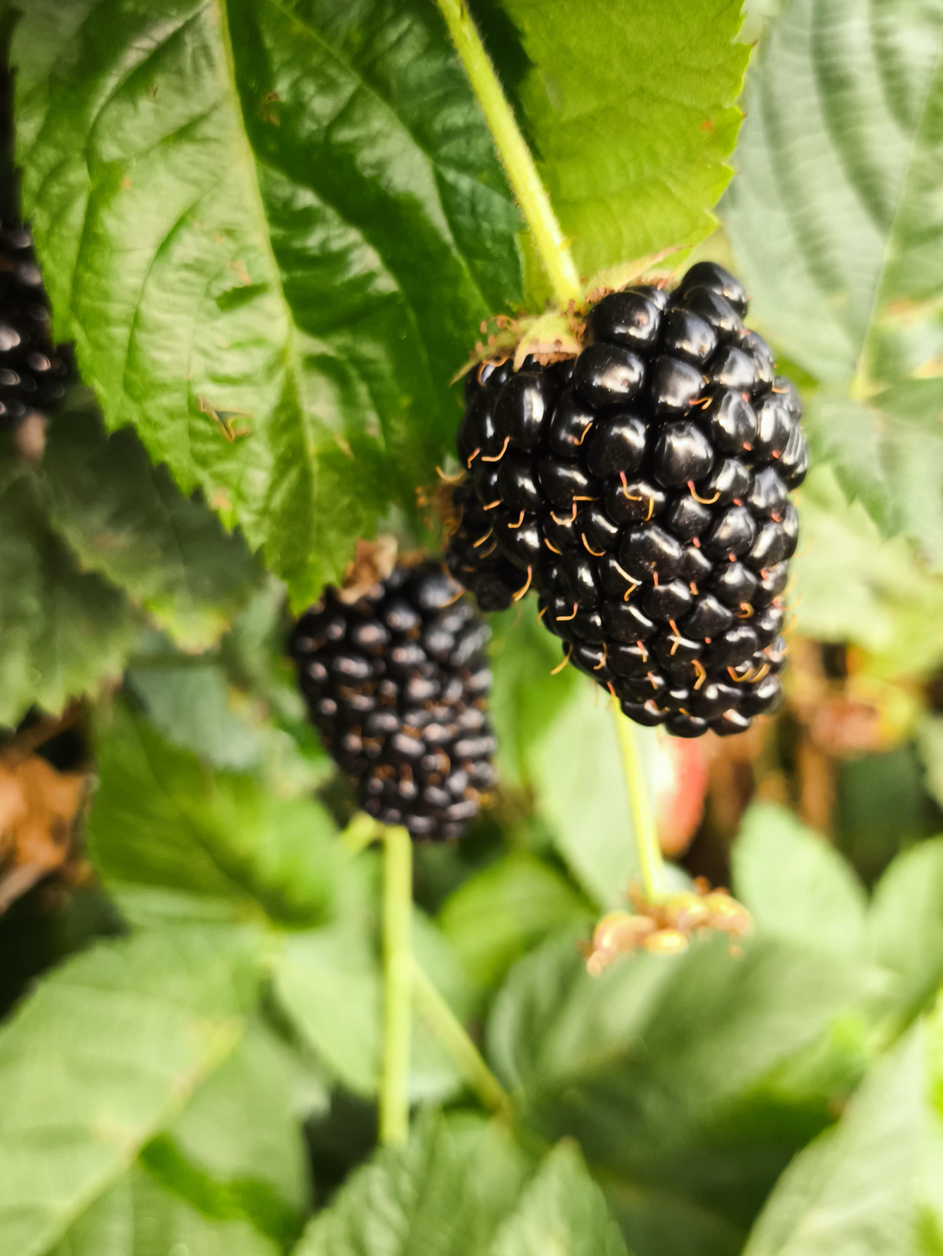maduro: (470, 266, 797, 731), (290, 560, 494, 840)
